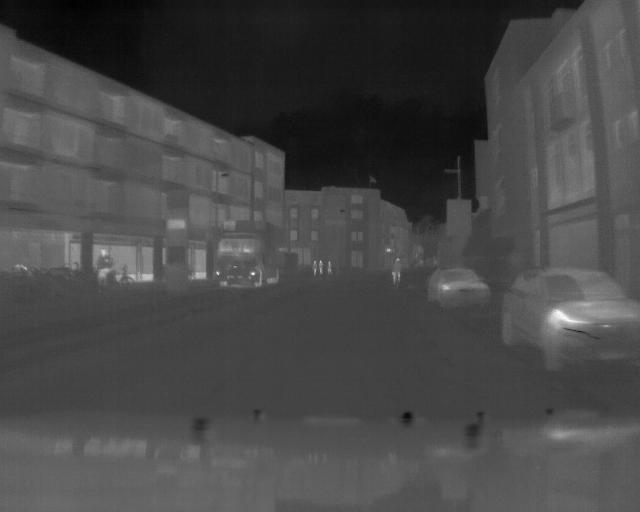car: (501, 265, 638, 370), (211, 232, 285, 290), (426, 265, 493, 311)
person: (94, 246, 112, 299), (391, 253, 403, 292), (311, 255, 319, 279), (318, 255, 325, 279)
